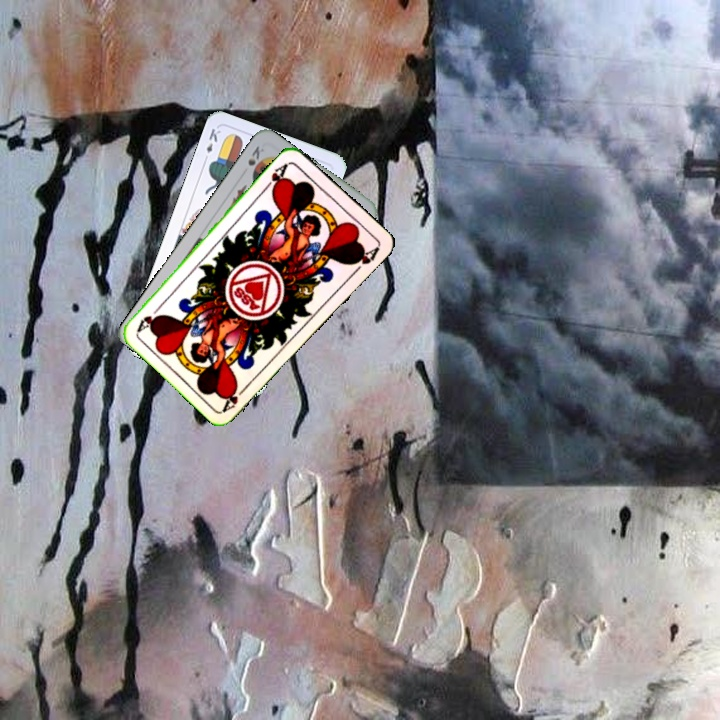EK: (200, 124, 223, 164)
HA: (260, 159, 292, 196), (219, 380, 251, 414)
SK: (244, 142, 267, 168)
